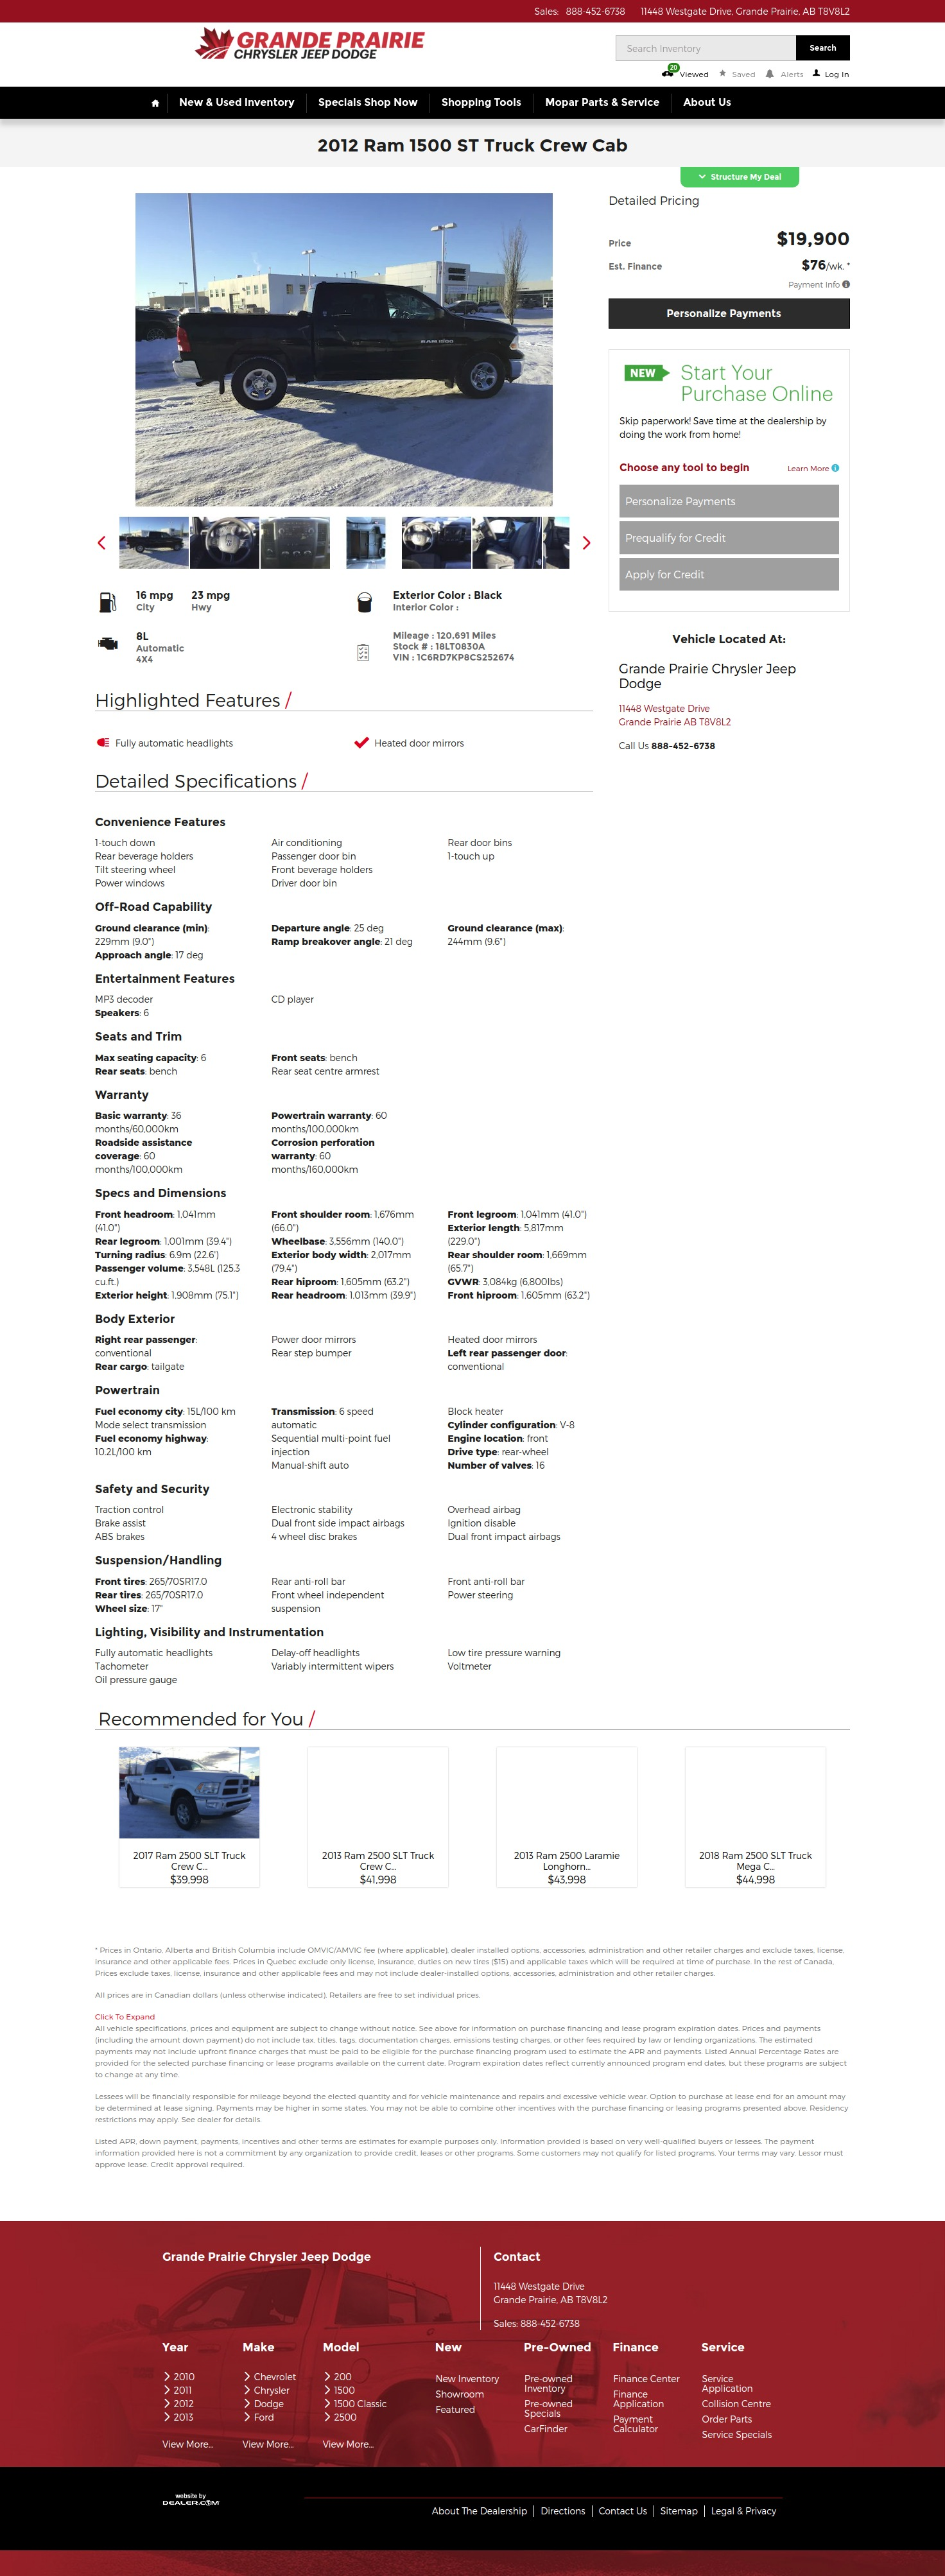car: (583, 536, 592, 550)
